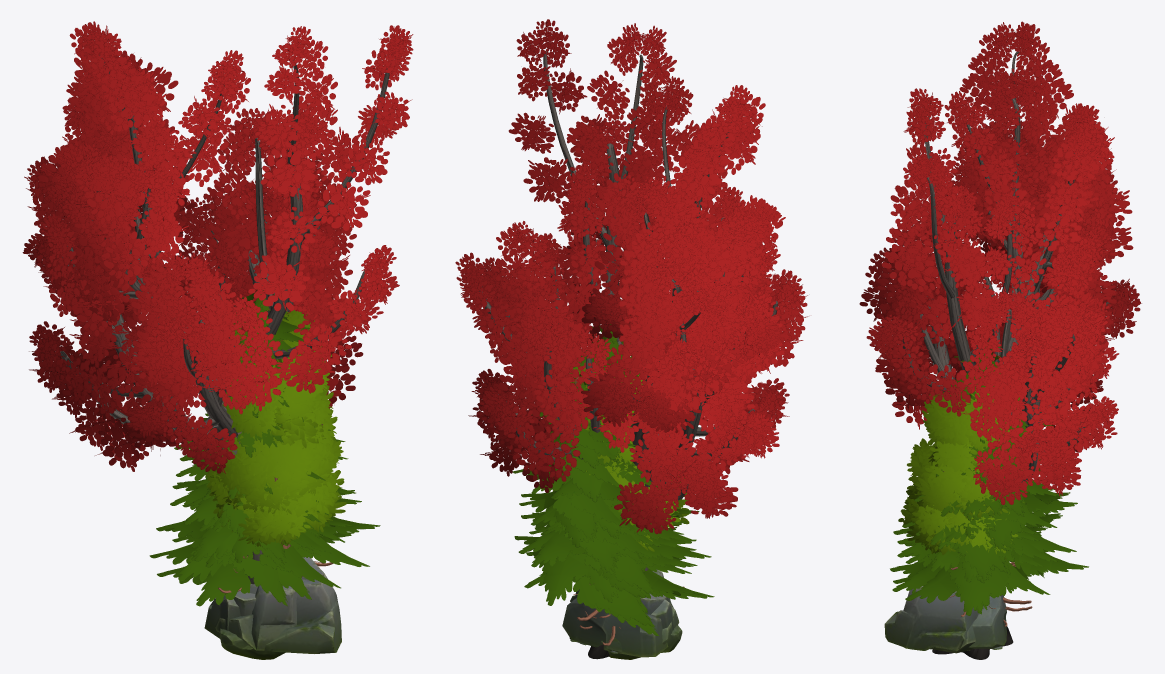
File: kit-nature.glb
The picture shows the model from 3 angles, left to right: view 1: azimuth 30°, elevation 25°; view 2: azimuth 150°, elevation 25°; view 3: azimuth 270°, elevation 25°; orthographic projection. The views are drawn at different scales.
Visible parts, largest first — view 1: TwistedTree_2, CommonTree_3, Pine_4, Rock_Medium_3, Pine_2, CommonTree_1, Pine_5, CommonTree_2, Rock_Medium_1, CommonTree_4, Pine_1, Rock_Medium_2; view 2: TwistedTree_2, Pine_5, Pine_4, Rock_Medium_2, Pine_2, Rock_Medium_3, Pine_1, Rock_Medium_1; view 3: TwistedTree_2, Pine_5, Pine_4, Rock_Medium_3, CommonTree_3, CommonTree_4, Pine_2, CommonTree_2, CommonTree_1, Rock_Medium_2, Pine_1, CommonTree_5.
Boxes of the visible parts, bbox=[...] form: TwistedTree_2: bbox=[22, 21, 413, 584]; CommonTree_3: bbox=[214, 314, 343, 518]; Pine_4: bbox=[156, 289, 355, 593]; Rock_Medium_3: bbox=[220, 557, 341, 659]; Pine_2: bbox=[157, 425, 354, 606]; CommonTree_1: bbox=[208, 415, 346, 546]; Pine_5: bbox=[149, 413, 380, 599]; CommonTree_2: bbox=[205, 403, 344, 548]; Rock_Medium_1: bbox=[215, 585, 297, 650]; CommonTree_4: bbox=[226, 310, 333, 425]; Pine_1: bbox=[172, 423, 340, 576]; Rock_Medium_2: bbox=[204, 590, 256, 638]; TwistedTree_2: bbox=[455, 19, 808, 659]; Pine_5: bbox=[512, 374, 701, 626]; Pine_4: bbox=[518, 324, 711, 645]; Rock_Medium_2: bbox=[562, 593, 668, 657]; Pine_2: bbox=[524, 487, 714, 635]; Rock_Medium_3: bbox=[570, 589, 682, 652]; Pine_1: bbox=[534, 482, 697, 620]; Rock_Medium_1: bbox=[576, 569, 679, 659]; TwistedTree_2: bbox=[859, 21, 1141, 659]; Pine_5: bbox=[893, 408, 1088, 615]; Pine_4: bbox=[893, 341, 1062, 616]; Rock_Medium_3: bbox=[884, 586, 978, 650]; CommonTree_3: bbox=[905, 386, 1019, 552]; CommonTree_4: bbox=[921, 390, 1019, 472]; Pine_2: bbox=[890, 499, 1050, 614]; CommonTree_2: bbox=[898, 437, 1022, 554]; CommonTree_1: bbox=[903, 445, 1024, 562]; Rock_Medium_2: bbox=[969, 595, 1006, 648]; Pine_1: bbox=[904, 493, 1047, 604]; CommonTree_5: bbox=[925, 503, 974, 545].
Bounding box in the file's own units: 10.56 × 19.06 × 9.2.
Materials: 11 (11 with a texture image).
